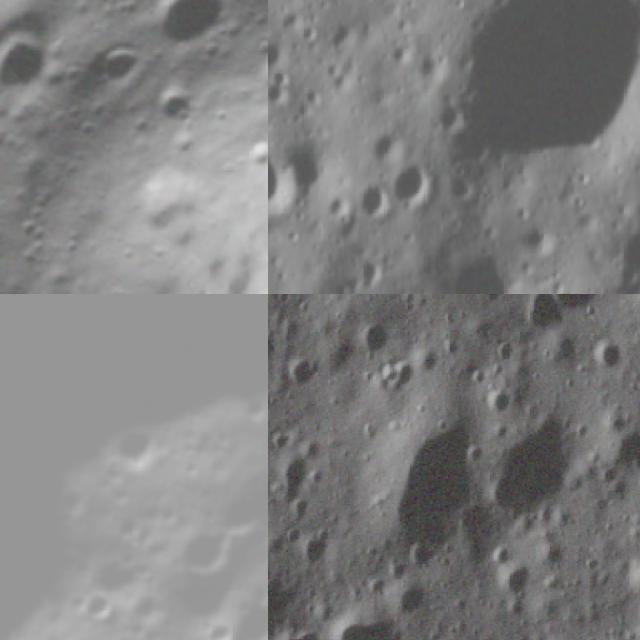crater: (438, 0, 640, 158), (360, 400, 482, 553), (478, 410, 576, 520), (161, 506, 253, 604), (122, 0, 236, 63), (98, 407, 176, 486), (0, 16, 64, 103), (425, 246, 519, 294), (83, 28, 147, 92), (64, 574, 127, 636), (324, 600, 413, 640), (595, 416, 640, 485), (268, 562, 300, 640), (268, 139, 296, 225), (374, 349, 416, 406), (289, 130, 329, 189), (519, 294, 565, 343), (189, 603, 249, 640), (283, 348, 324, 399), (392, 576, 432, 626), (496, 558, 537, 606), (388, 149, 424, 201), (352, 312, 390, 356), (238, 126, 268, 173), (300, 531, 336, 570), (406, 536, 444, 572), (544, 294, 604, 316), (479, 387, 517, 421), (489, 336, 524, 370), (353, 176, 382, 213), (271, 623, 325, 640), (624, 552, 640, 601), (601, 632, 634, 640)
